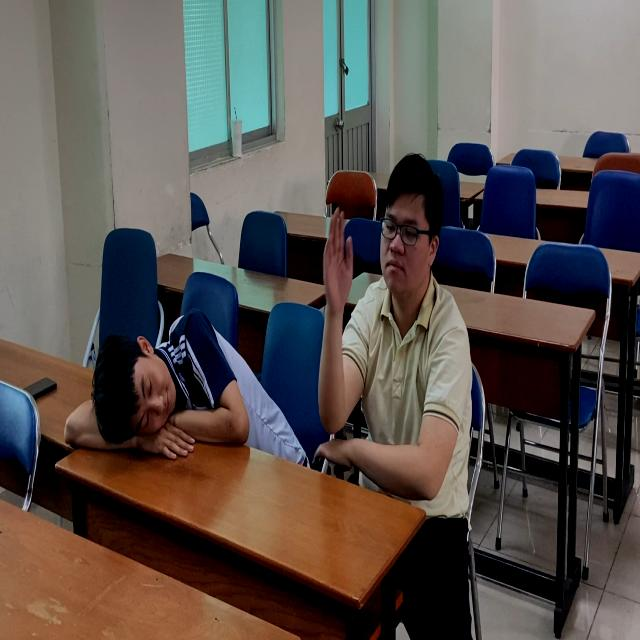raise_hand: (318, 148, 487, 521)
sleep: (59, 304, 311, 479)
